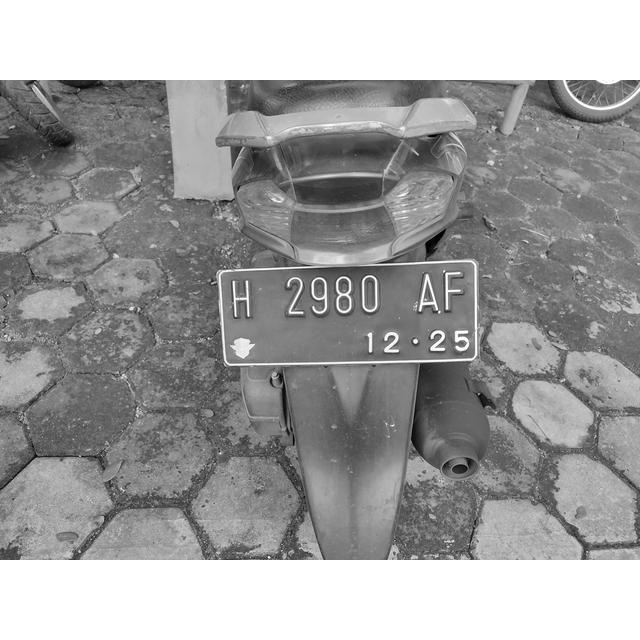license: (226, 269, 472, 360)
